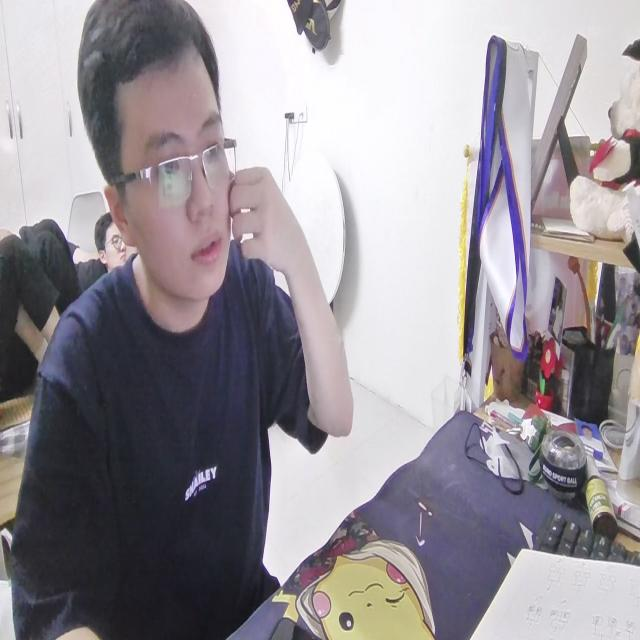book: (463, 530, 640, 640)
extra_person: (86, 207, 133, 269)
student: (14, 0, 351, 640)
